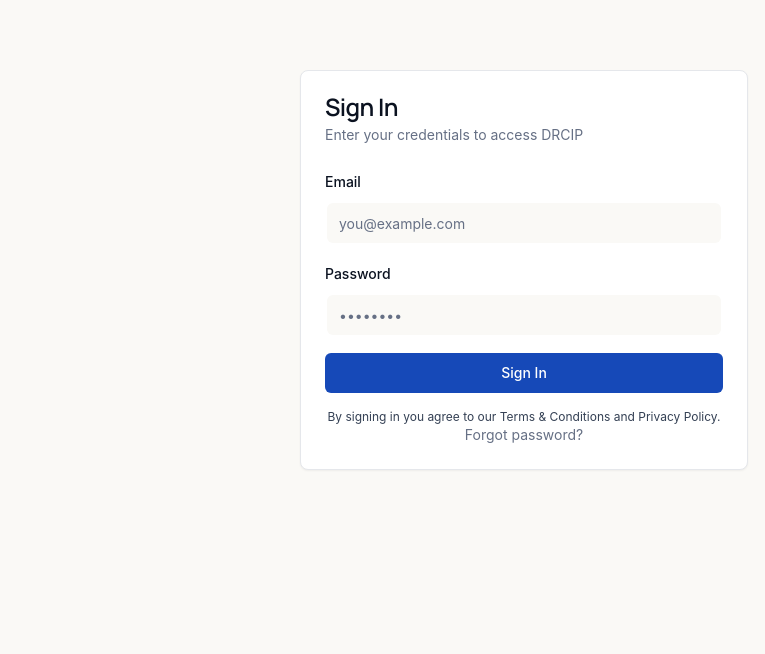
LoginPage — post-login redirect › stays on /login after failed login
Type "bad@example.com" into the field labelled "Email" at (524, 223), box [327,203,721,243]
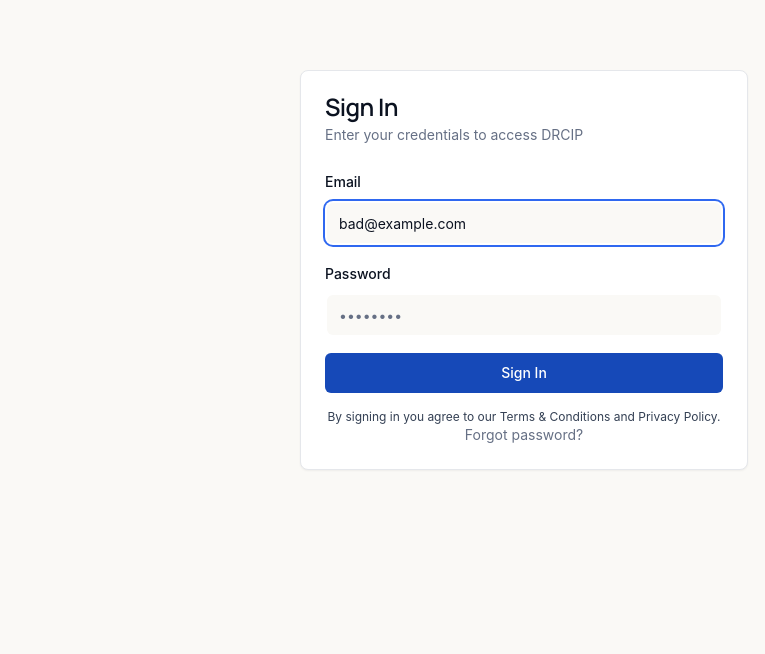
Type "wrong" into the password field labelled "Password" at (524, 315), box [327,295,721,335]
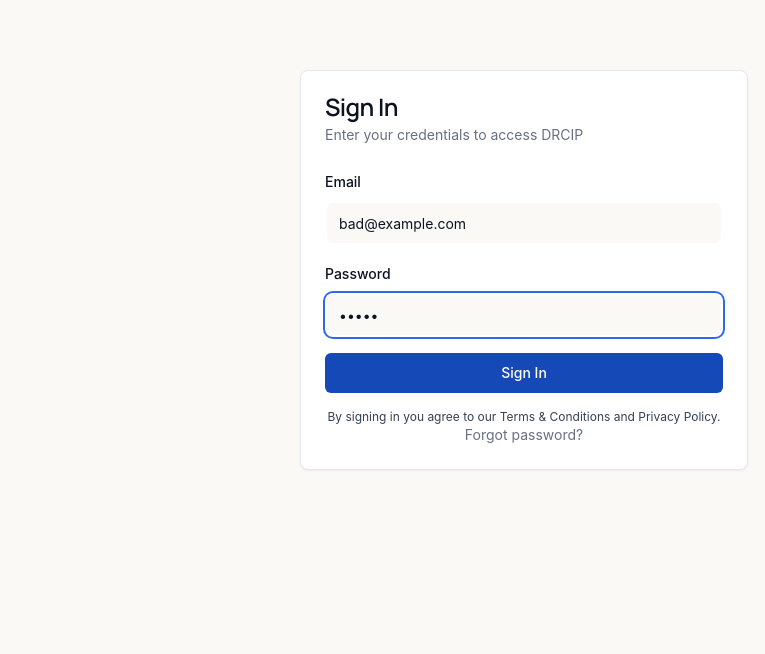
Click the button "Sign In" at (524, 373), box [325,353,723,393]
(page scrolled)
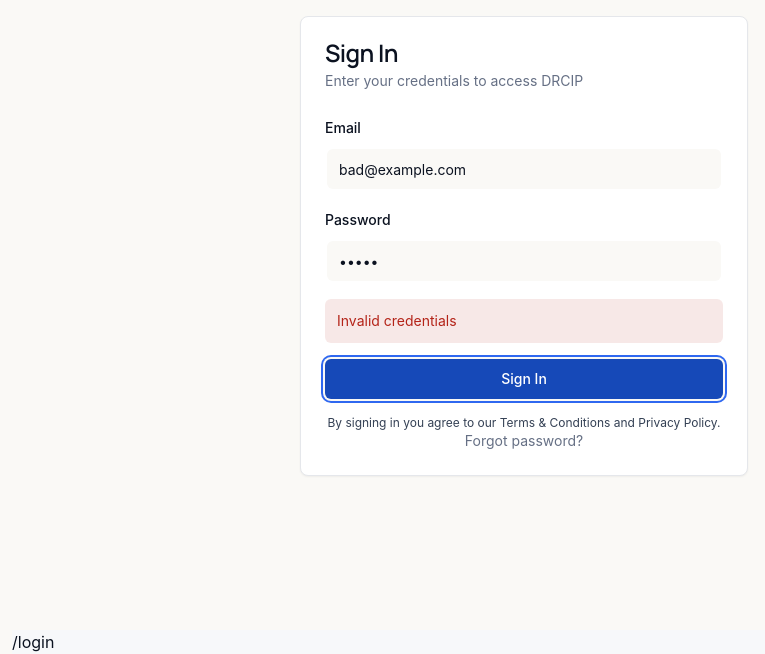
Expected: the text with test id "location" reads "/login", [12,632,54,652]
Expected: the message reads "Invalid credentials", [337,312,457,329]
